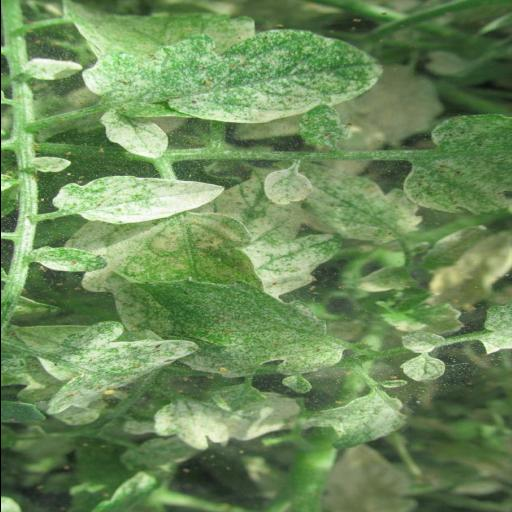disease_tomato: (76, 28, 384, 124), (105, 277, 351, 377), (52, 174, 230, 224)
